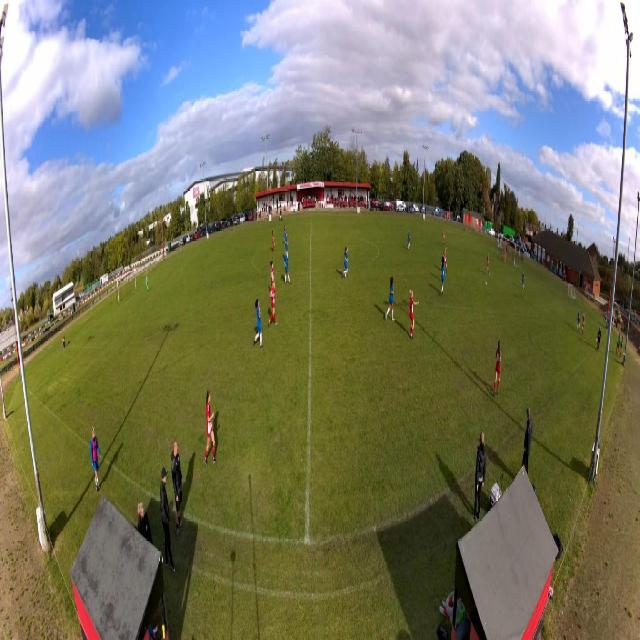ball: (485, 281, 487, 286)
player: (204, 389, 218, 468), (253, 297, 264, 351), (409, 288, 420, 342), (493, 340, 502, 398), (384, 275, 395, 322), (268, 280, 278, 328), (283, 250, 292, 286), (270, 259, 277, 298), (440, 261, 446, 298), (342, 245, 348, 280), (284, 232, 290, 262), (440, 251, 445, 282), (444, 246, 448, 274), (486, 253, 490, 278), (582, 312, 586, 337), (576, 308, 580, 333), (271, 229, 275, 251), (407, 229, 411, 251), (521, 270, 525, 291), (283, 225, 287, 245), (145, 274, 149, 294), (503, 248, 507, 264), (442, 230, 445, 248)
